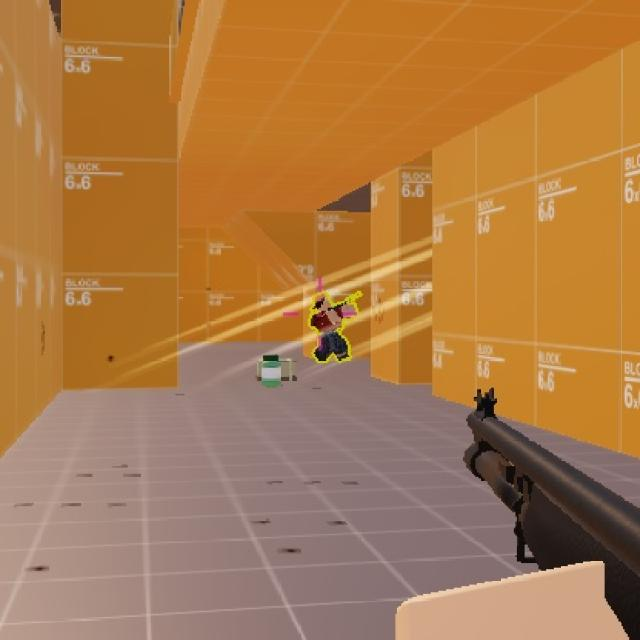player: (306, 271, 359, 361)
